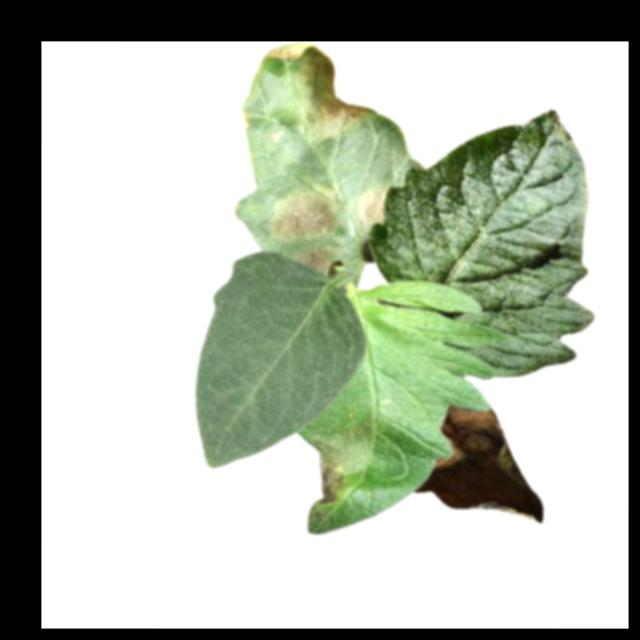Late_blight: (413, 407, 545, 523), (264, 41, 368, 144), (308, 415, 375, 509), (269, 179, 343, 244), (355, 181, 390, 234), (296, 246, 333, 277)
healthy: (370, 109, 596, 378), (194, 253, 376, 469)
